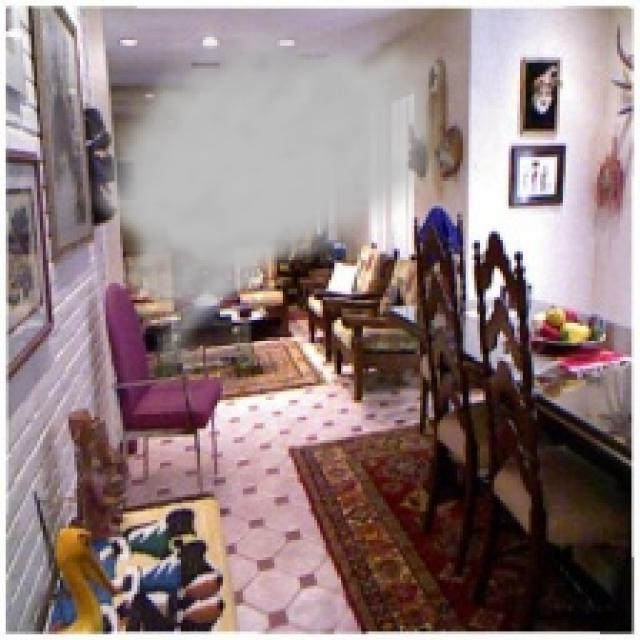Smoke: (77, 20, 474, 377)
